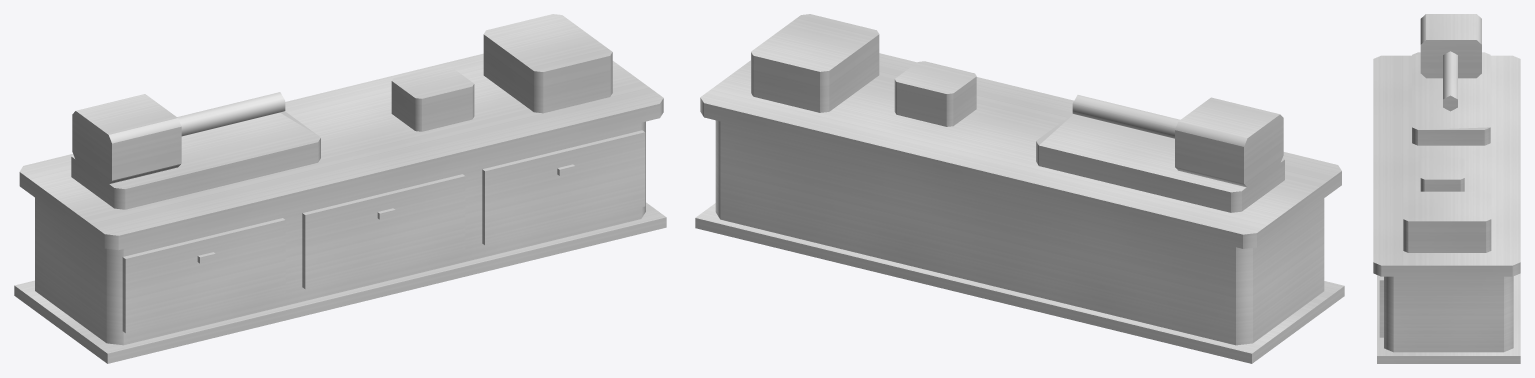
File: bench_machining.obj
3 views of the same model, side by side, from view 1: azimuth 30°, elevation 25°; view 2: azimuth 150°, elevation 25°; view 3: azimuth 270°, elevation 25° (orthographic). The views are drawn at different scales.
Visible parts, largest first — view 1: worktop, cabinet, right_door, left_door, middle_door, plinth, machine_base, parts_container, machine_drive, tool_block, machine_spindle; view 2: cabinet, worktop, machine_base, plinth, parts_container, machine_drive, tool_block, machine_spindle; view 3: worktop, cabinet, parts_container, machine_base, machine_drive, plinth, tool_block, machine_spindle, right_door.
Part boxes in pixels (left/top/right/bottom): worktop: left=19, top=53, right=663, bottom=250; cabinet: left=35, top=121, right=645, bottom=345; right_door: left=482, top=130, right=645, bottom=245; left_door: left=122, top=218, right=285, bottom=333; middle_door: left=302, top=174, right=465, bottom=289; plinth: left=14, top=202, right=666, bottom=363; machine_base: left=71, top=111, right=320, bottom=209; parts_container: left=483, top=14, right=612, bottom=113; machine_drive: left=72, top=94, right=181, bottom=184; tool_block: left=391, top=66, right=474, bottom=131; machine_spindle: left=177, top=92, right=285, bottom=136; cabinet: left=715, top=120, right=1324, bottom=345; worktop: left=700, top=53, right=1341, bottom=248; machine_base: left=1036, top=114, right=1284, bottom=212; plinth: left=695, top=203, right=1344, bottom=363; parts_container: left=751, top=14, right=879, bottom=112; machine_drive: left=1175, top=97, right=1283, bottom=187; tool_block: left=894, top=61, right=976, bottom=126; machine_spindle: left=1072, top=95, right=1180, bottom=138; worktop: left=1373, top=55, right=1520, bottom=276; cabinet: left=1384, top=276, right=1513, bottom=352; parts_container: left=1403, top=191, right=1491, bottom=252; machine_base: left=1412, top=52, right=1490, bottom=145; machine_drive: left=1420, top=14, right=1481, bottom=78; plinth: left=1377, top=273, right=1520, bottom=363; tool_block: left=1420, top=157, right=1464, bottom=191; machine_spindle: left=1443, top=51, right=1457, bottom=111; right_door: left=1379, top=276, right=1383, bottom=337.
Bounding box in the file's own units: 2.84 × 0.96 × 0.84.
